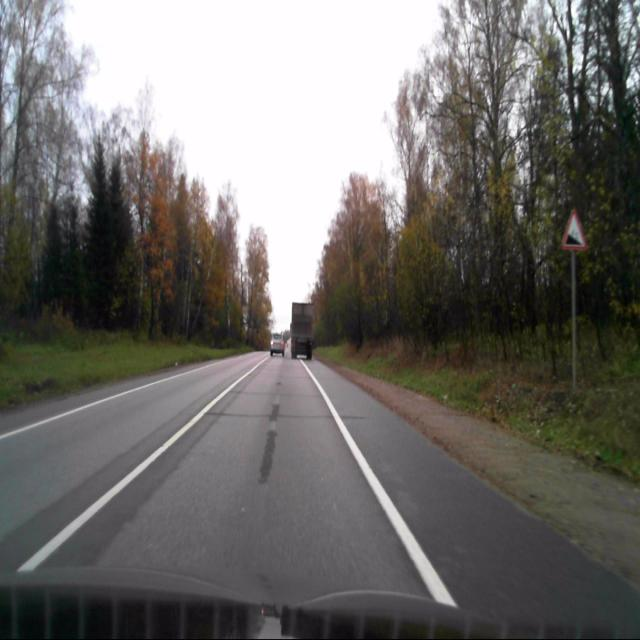road sign: (561, 208, 587, 250)
